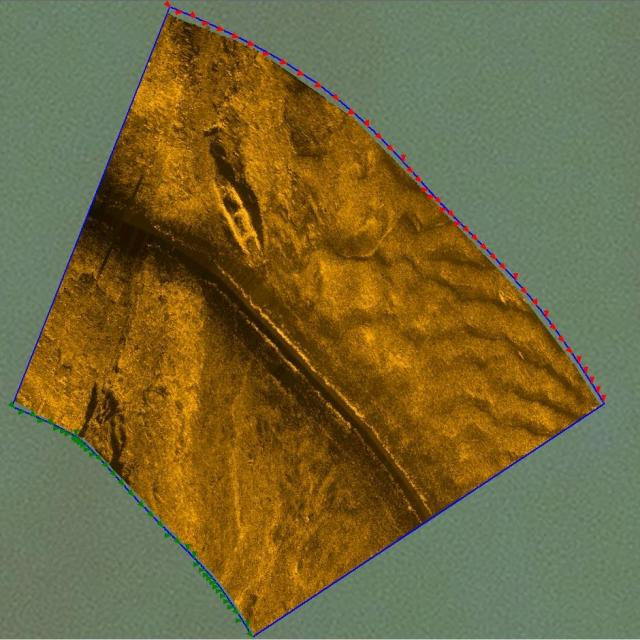ship: (203, 164, 270, 265)
